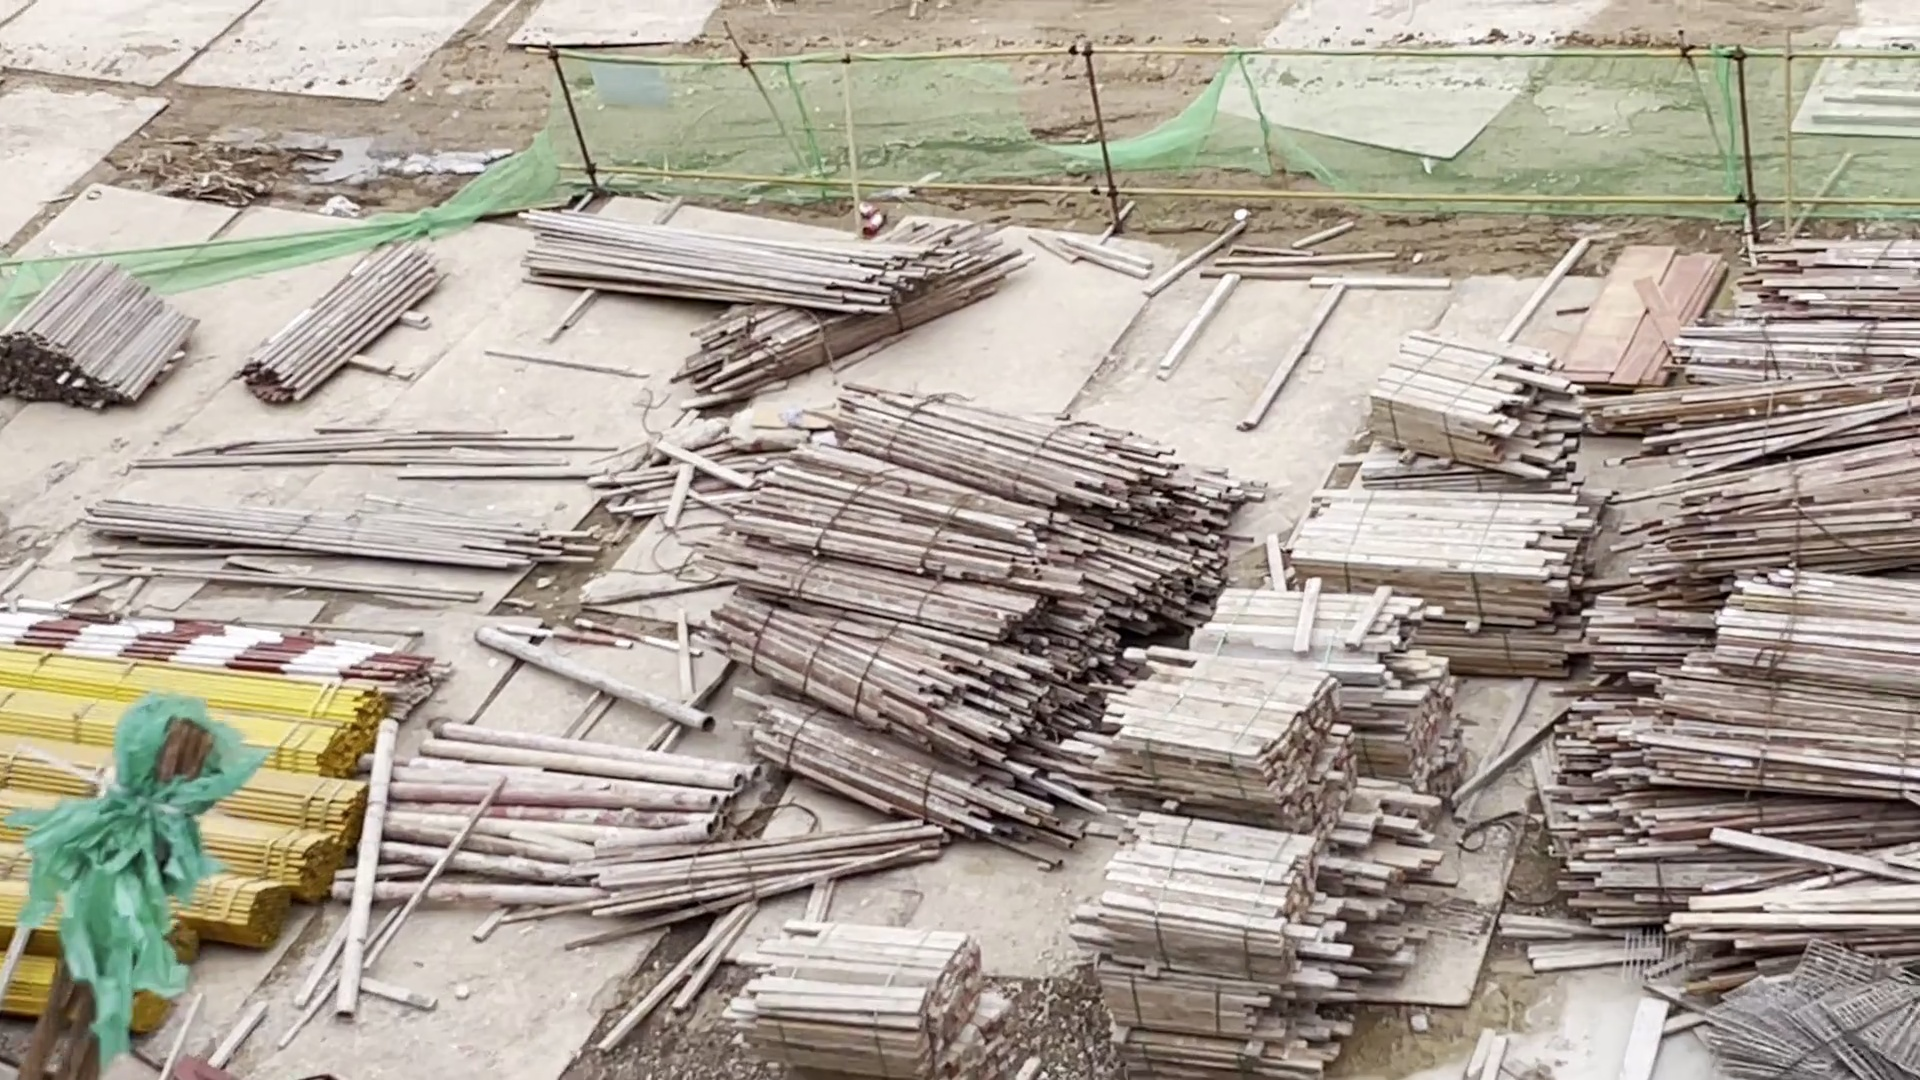board: (1571, 247, 1698, 378)
wood: (1567, 385, 1920, 931), (724, 405, 1142, 833), (1150, 492, 1578, 836), (518, 214, 1011, 407), (1067, 829, 1433, 1080), (750, 923, 998, 1080), (233, 239, 446, 413), (1364, 320, 1561, 477), (1, 258, 193, 415), (1727, 236, 1920, 377)
